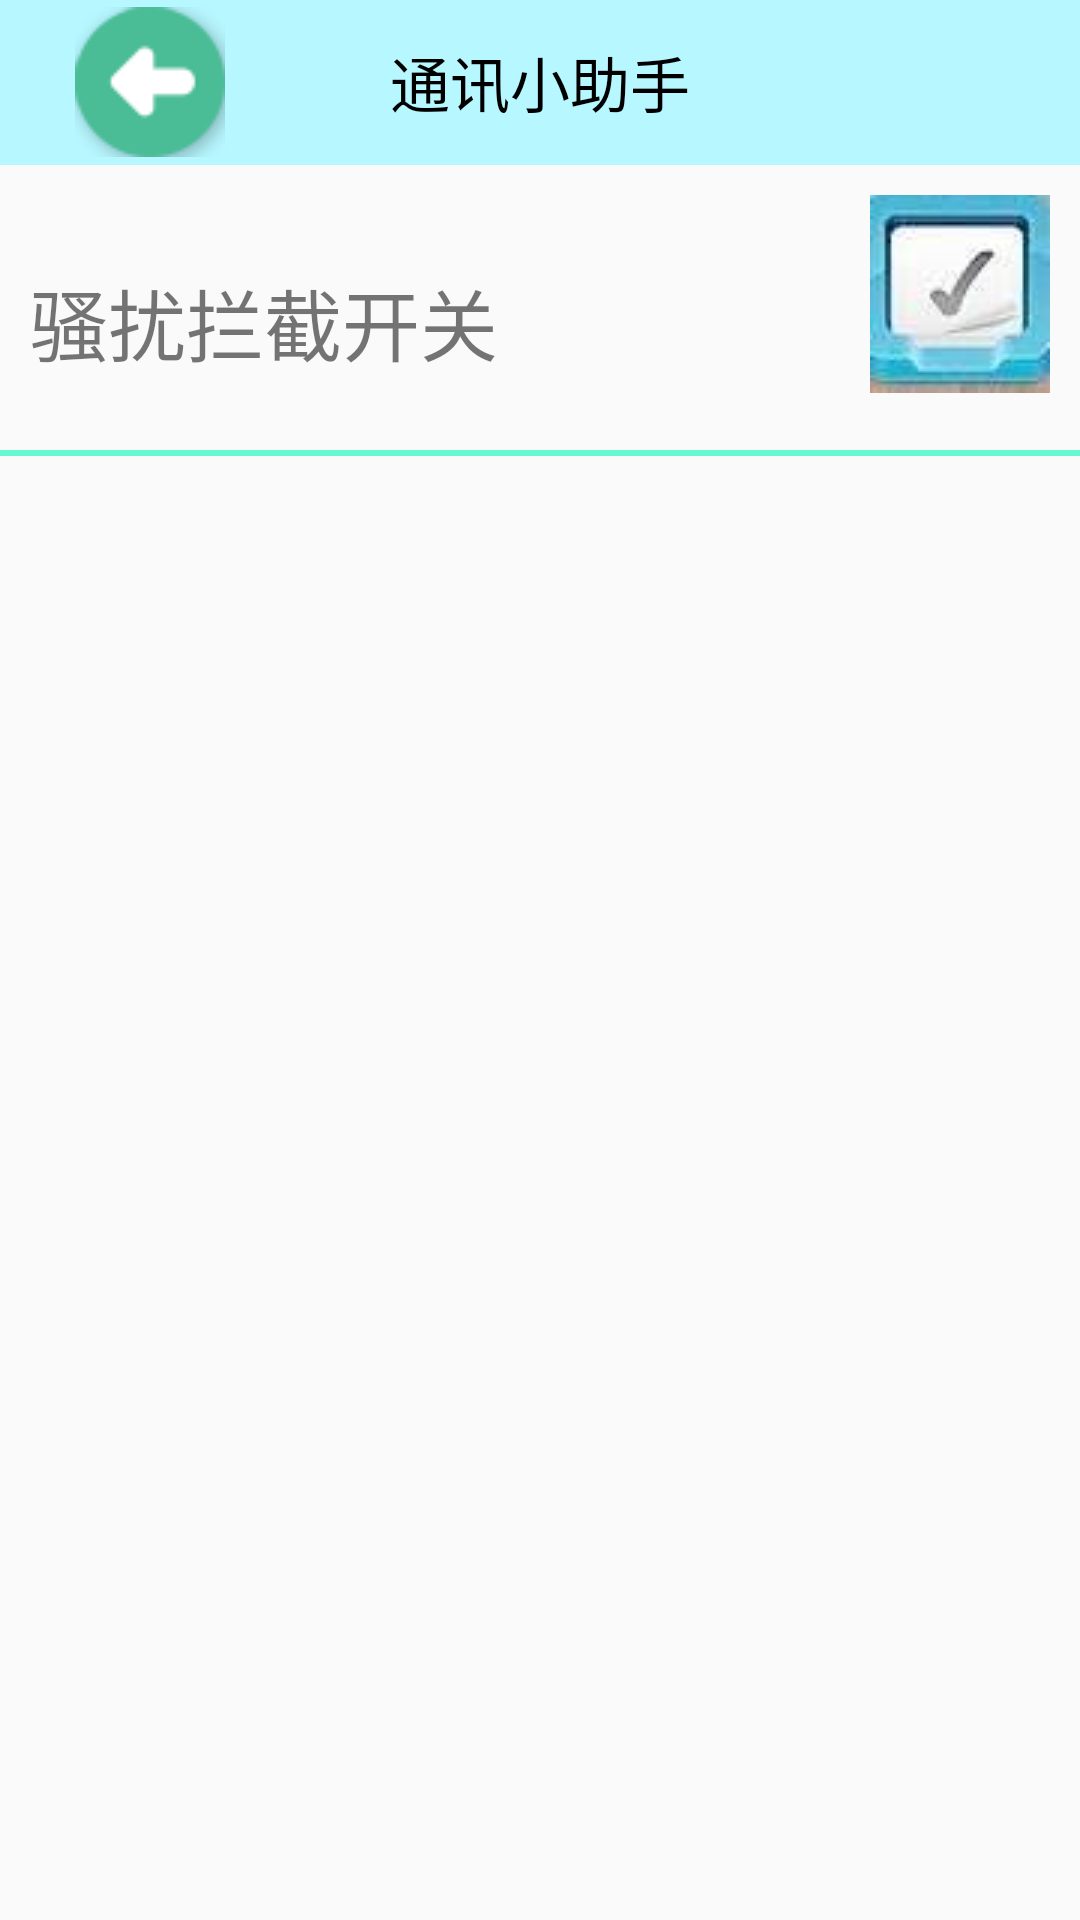

Icon bounding boxes for this 1080*1920 phone screenshot, format (x1, y1, x2, y2):
back: (75, 7, 225, 157)
